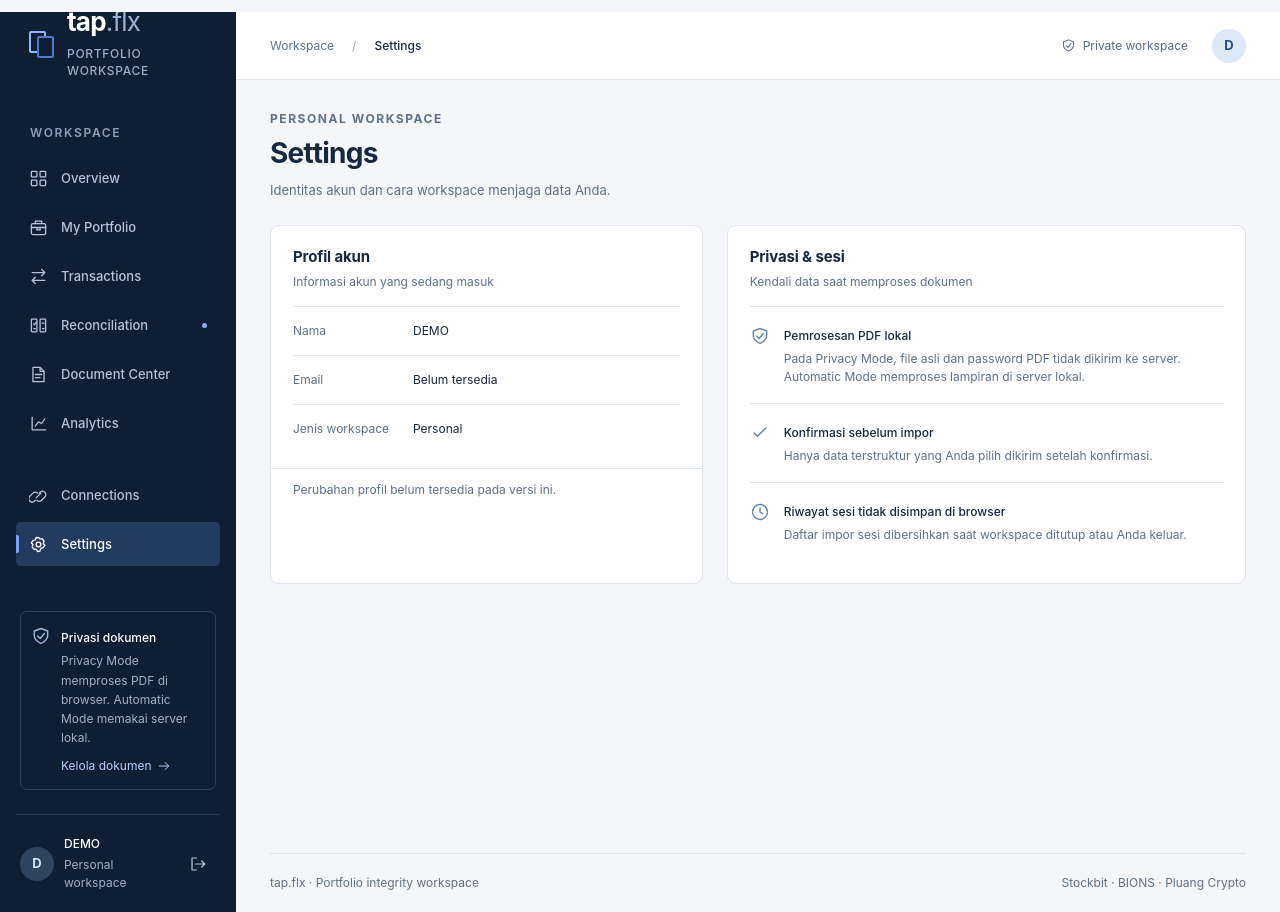
Test: keeps logout actionable and does not leak logout failure details
This screenshot has width=1280, height=912.
(page scrolled)
Click the button named "Keluar dari akun".
click(198, 864)  # box x1=180 y1=846 x2=216 y2=882
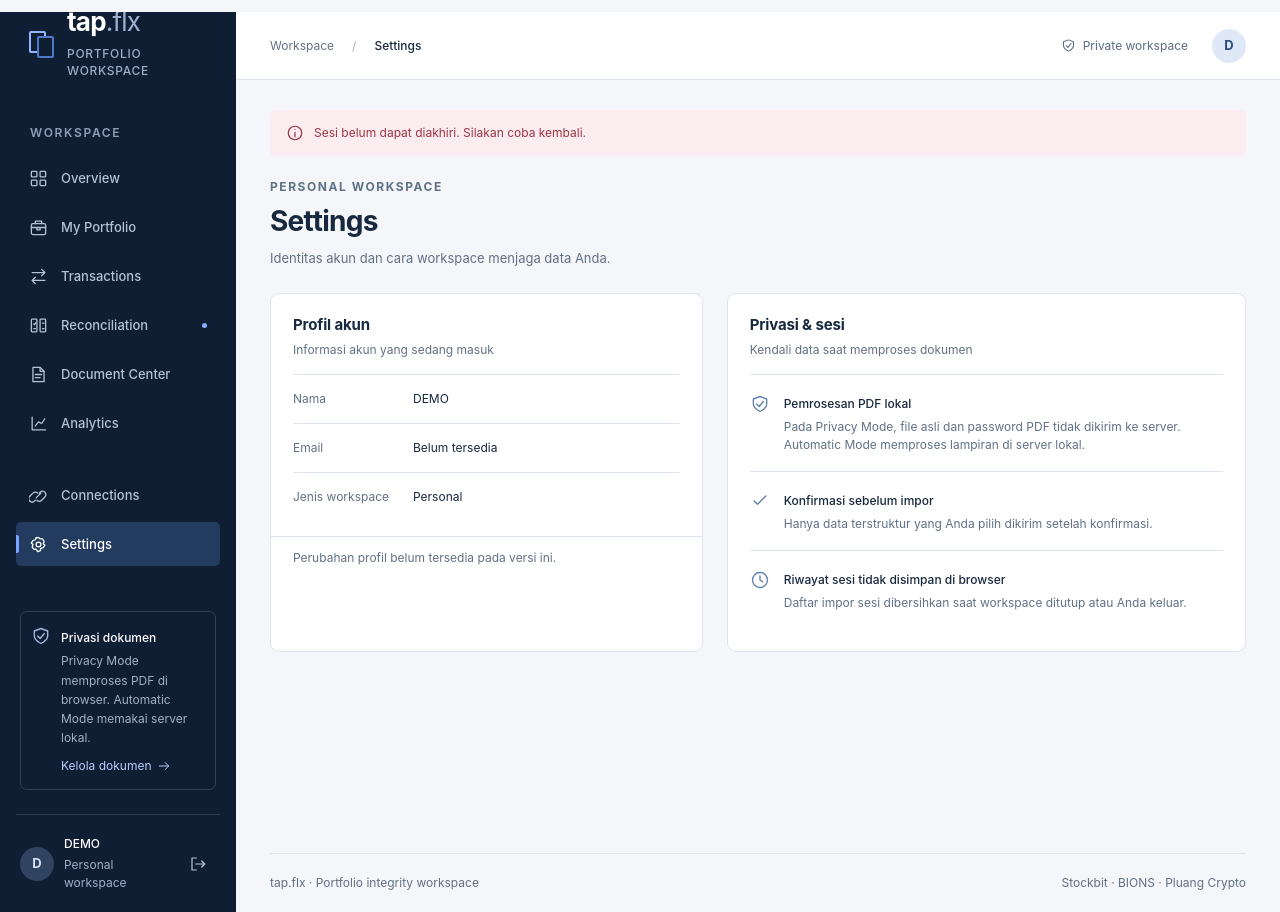
Check: the message shows "Sesi belum dapat diakhiri", box x1=314 y1=125 x2=586 y2=140
